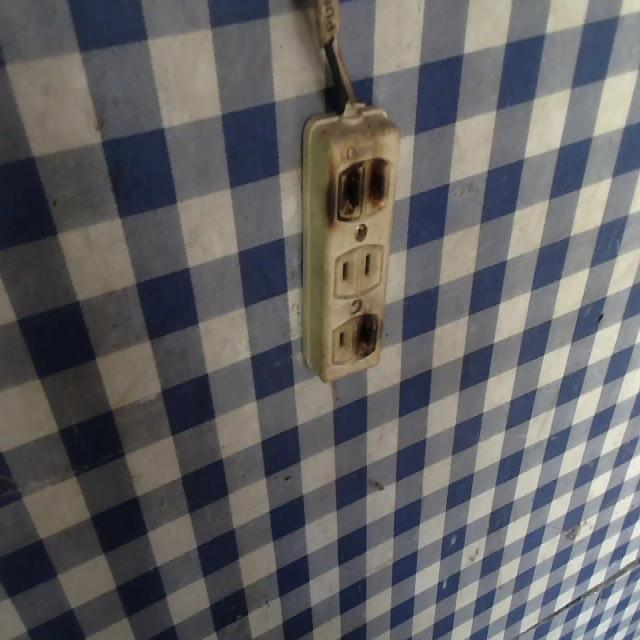-: (320, 149, 393, 224), (351, 311, 380, 361)
